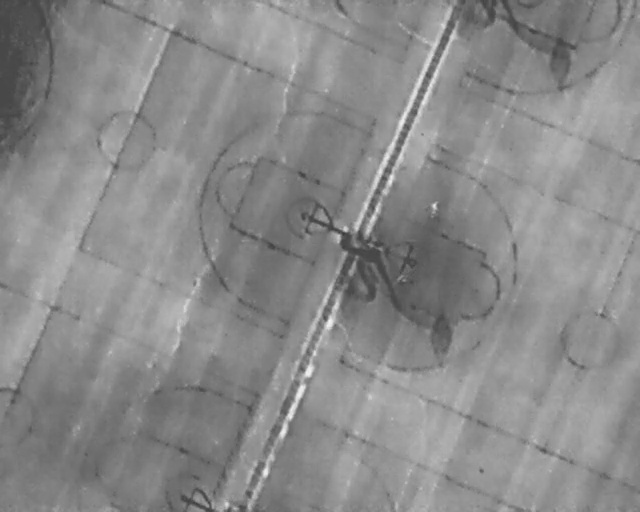Person: (428, 198, 439, 220)
